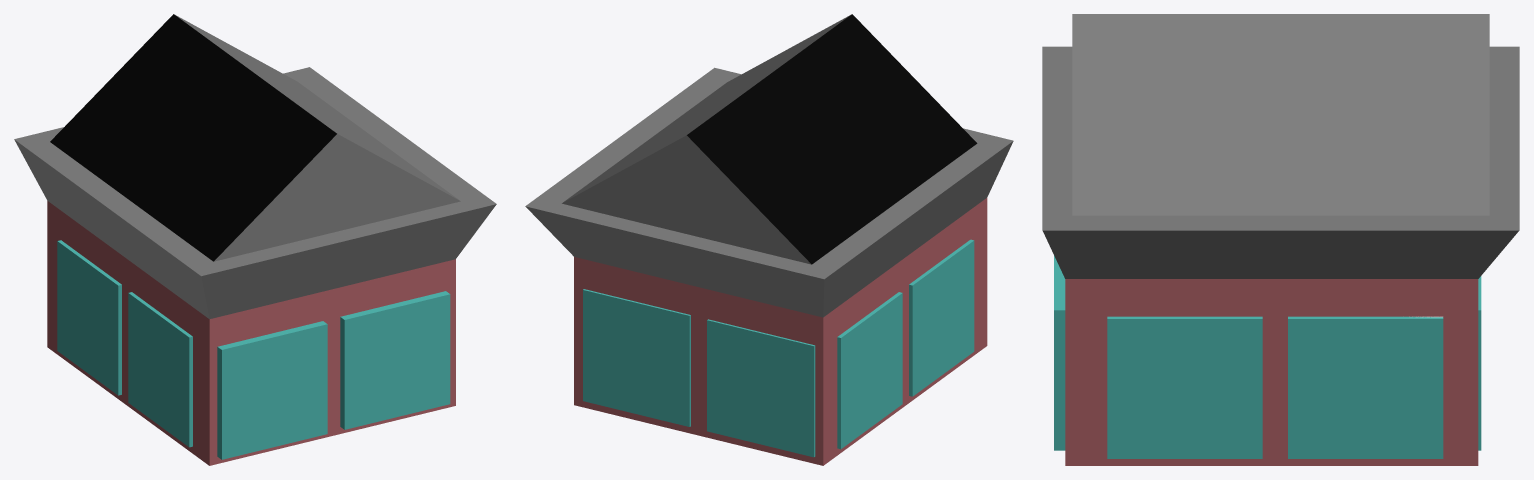
Rendered from House 1.fbx.
3 views of the same model, side by side, from view 1: azimuth 30°, elevation 25°; view 2: azimuth 150°, elevation 25°; view 3: azimuth 270°, elevation 25° (orthographic). The views are drawn at different scales.
Visible parts, largest first — view 1: Cube, Cube.001, Cube.003, Cube.004; view 2: Cube, Cube.001, Cube.003, Cube.004; view 3: Cube, Cube.001.
Boxes of the visible parts, bbox=[...] form: Cube: bbox=[14, 14, 496, 465]; Cube.001: bbox=[217, 291, 450, 459]; Cube.003: bbox=[57, 240, 121, 395]; Cube.004: bbox=[128, 292, 192, 447]; Cube: bbox=[525, 14, 1013, 465]; Cube.001: bbox=[583, 289, 815, 457]; Cube.003: bbox=[837, 292, 902, 449]; Cube.004: bbox=[909, 239, 974, 396]; Cube: bbox=[1042, 14, 1519, 465]; Cube.001: bbox=[1054, 255, 1481, 458].
Size of the model in its own units: 2881 by 2776 by 3158.
